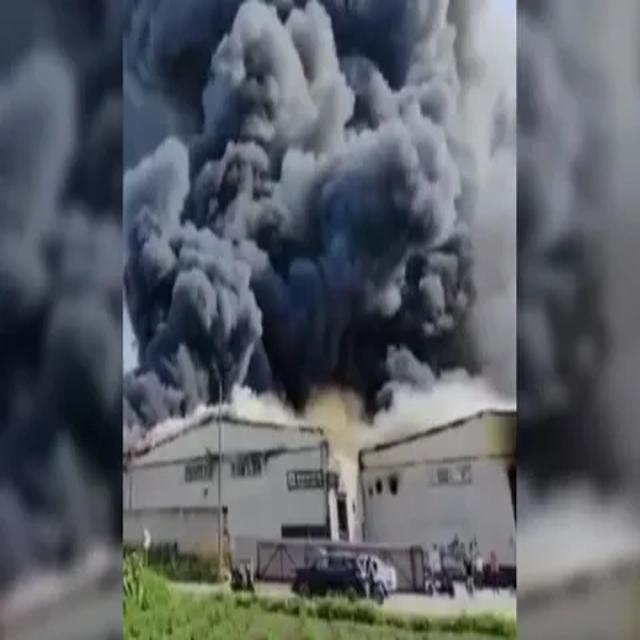Smoke: (124, 2, 516, 408)
